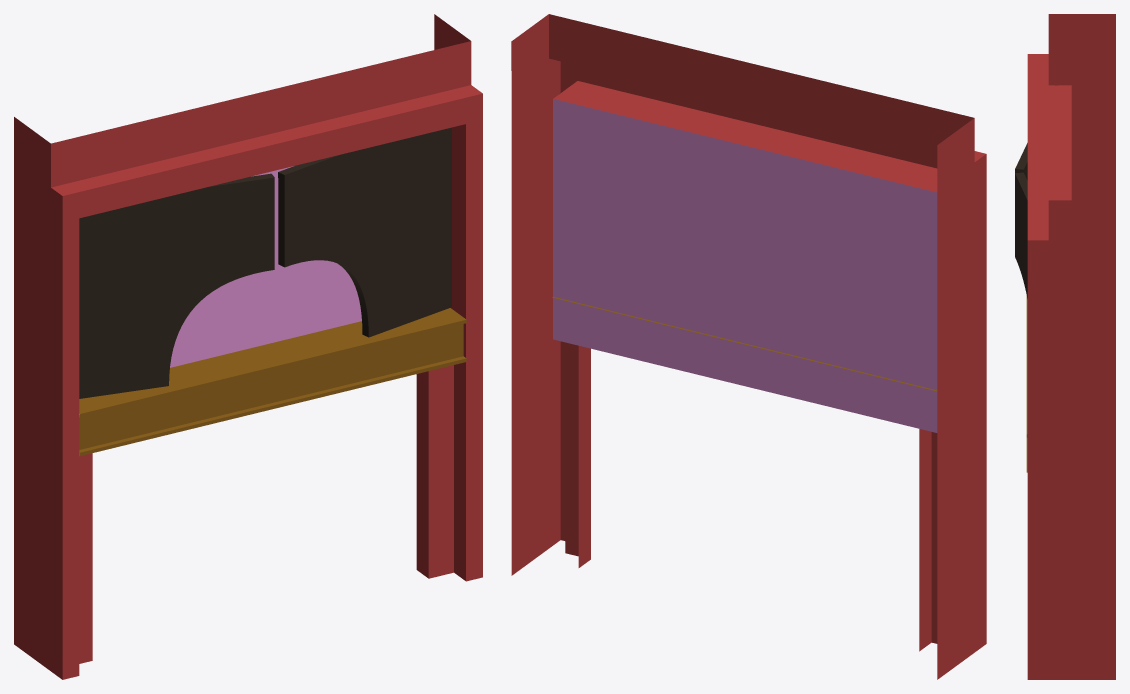
The model's file is Kindal.FBX.
3 views of the same model, side by side, from view 1: azimuth 30°, elevation 25°; view 2: azimuth 150°, elevation 25°; view 3: azimuth 270°, elevation 25° (orthographic). The views are drawn at different scales.
Visible parts, largest first — view 1: Kindal; view 2: Kindal; view 3: Kindal.
Boxes of the visible parts, left/top/right/bottom form: Kindal: left=14, top=14, right=482, bottom=679; Kindal: left=511, top=14, right=986, bottom=679; Kindal: left=1015, top=14, right=1115, bottom=679.
Size of the model in its own units: 500 by 600 by 114.
